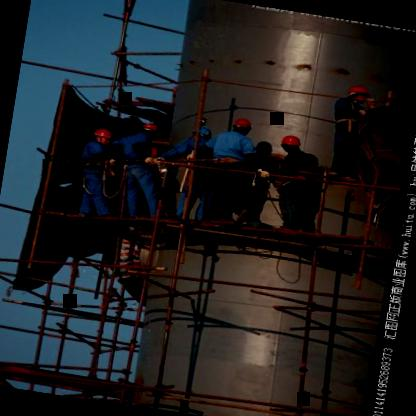helmet: (275, 133, 304, 156), (341, 82, 370, 104), (228, 114, 256, 136), (90, 124, 114, 148), (191, 122, 215, 146), (136, 118, 162, 140)
